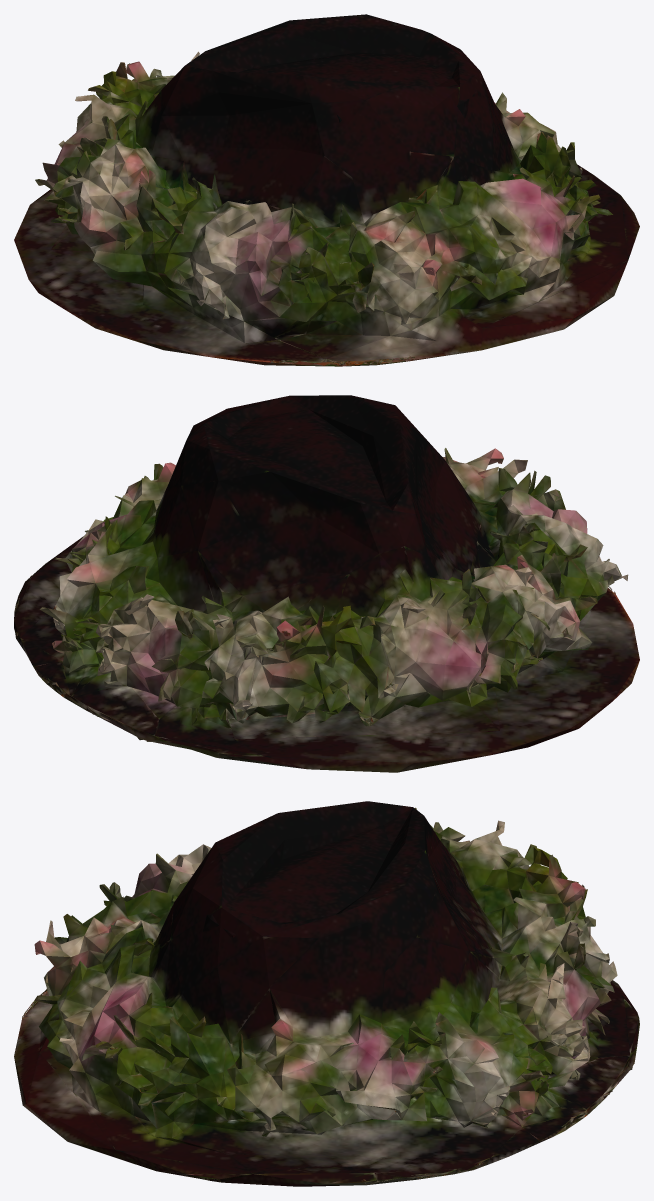
3 renders of one model, top to bottom at view 1: azimuth 30°, elevation 25°; view 2: azimuth 150°, elevation 25°; view 3: azimuth 270°, elevation 25°, orthographic. The views are drawn at different scales.
Visible parts, largest first — view 1: Blumenkranz_Luisa_9k_1k; view 2: Blumenkranz_Luisa_9k_1k; view 3: Blumenkranz_Luisa_9k_1k.
Part boxes in pixels (x1,y1,x2,y2): Blumenkranz_Luisa_9k_1k: (14, 14, 639, 366); Blumenkranz_Luisa_9k_1k: (14, 395, 639, 772); Blumenkranz_Luisa_9k_1k: (14, 801, 639, 1186).
Bounding box in the file's own units: 0.3333 × 0.1204 × 0.314.
Materials: 1 (1 with a texture image).
